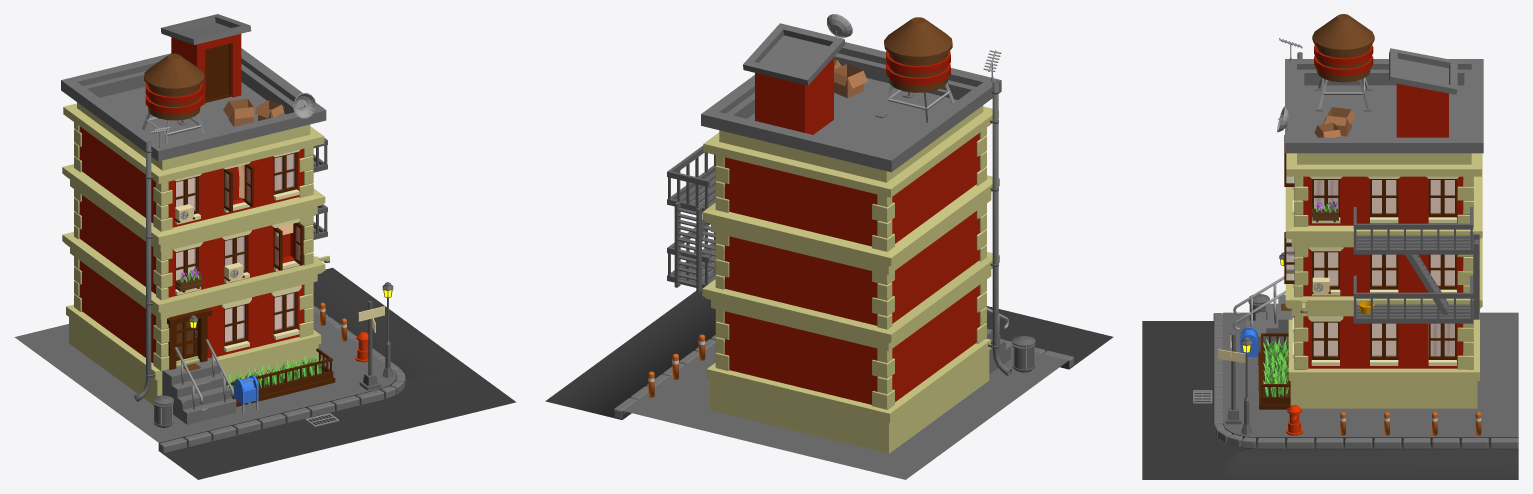
The model's file is House1.fbx.
The picture shows the model from 3 angles, left to right: view 1: azimuth 30°, elevation 25°; view 2: azimuth 150°, elevation 25°; view 3: azimuth 270°, elevation 25°; orthographic projection. The views are drawn at different scales.
Visible parts, largest first — view 1: Дом, Земля, Декор, Выход на крышу, Вышка, Бордюр, Большая клумба, Труба, Окно.006, Окно.005, Окно.003, Окно.007 (+10 smaller); view 2: Дом, Земля, Выход на крышу, Декор, Балкон, Вышка, Труба, Бордюр, Коробка.001, Мусорка; view 3: Дом, Земля, Балкон, Выход на крышу, Бордюр, Вышка, Декор, Большая клумба, Окно.017, Окно.015, Окно.016, Окно.013 (+12 smaller).
Boxes of the visible parts, x1,y1,x2,y2 form: Дом: (61, 48, 329, 424); Земля: (14, 267, 515, 479); Декор: (74, 122, 313, 371); Выход на крышу: (160, 14, 251, 104); Вышка: (142, 53, 205, 143); Бордюр: (159, 305, 405, 453); Большая клумба: (226, 348, 335, 406); Труба: (134, 141, 155, 401); Окно.006: (271, 285, 301, 339); Окно.005: (221, 297, 251, 351); Окно.003: (271, 218, 303, 270); Окно.007: (224, 161, 253, 212); Дом: (701, 42, 1011, 453); Земля: (545, 289, 1113, 479); Выход на крышу: (743, 23, 845, 134); Декор: (715, 127, 986, 409); Балкон: (667, 145, 716, 292); Вышка: (875, 17, 954, 122); Труба: (988, 80, 1011, 376); Бордюр: (614, 335, 1073, 419); Коробка.001: (834, 64, 867, 98); Мусорка: (1012, 335, 1035, 372); Дом: (1233, 59, 1483, 408); Земля: (1142, 312, 1518, 479); Балкон: (1353, 207, 1479, 323); Выход на крышу: (1389, 48, 1457, 137); Бордюр: (1213, 313, 1518, 449); Вышка: (1312, 14, 1374, 111); Декор: (1294, 176, 1473, 369); Большая клумба: (1258, 333, 1290, 409); Окно.017: (1308, 316, 1343, 365); Окно.015: (1367, 176, 1400, 223); Окно.016: (1426, 176, 1458, 223); Окно.013: (1428, 323, 1456, 365).
Bounding box in the file's own units: 28 × 28.02 × 28.
